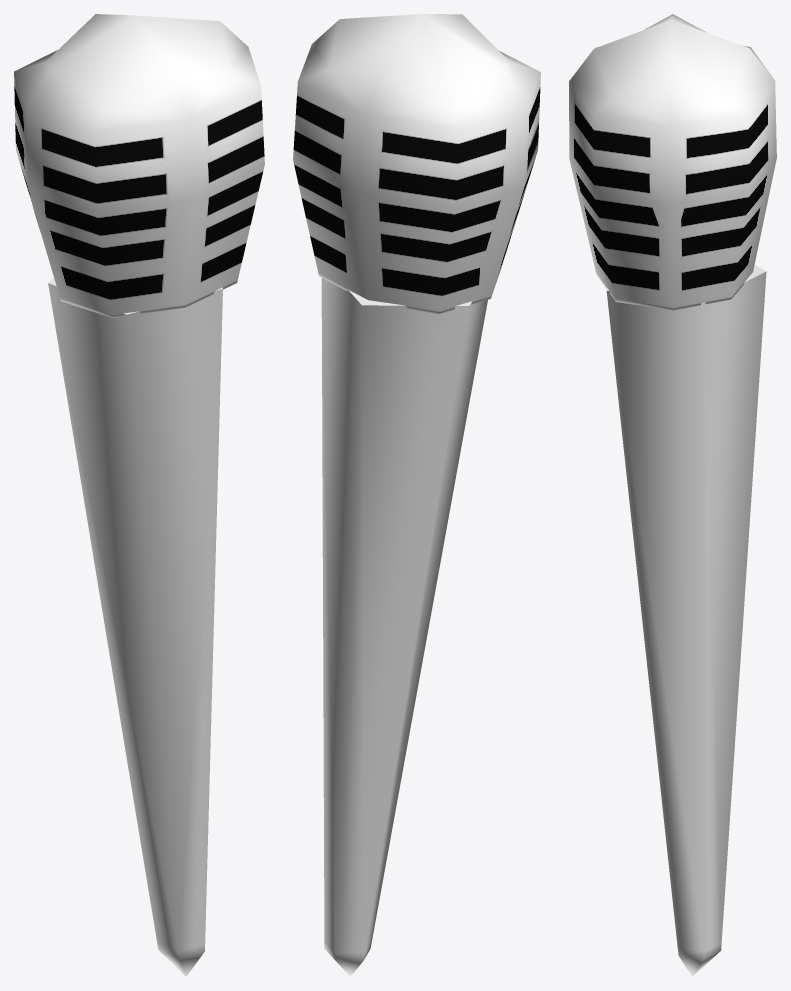
File: AF_M_Prop_06.FBX
3 renders of one model, left to right at view 1: azimuth 30°, elevation 25°; view 2: azimuth 150°, elevation 25°; view 3: azimuth 270°, elevation 25°, orthographic. The views are drawn at different scales.
Visible parts, largest first — view 1: AF_M_Prop_06; view 2: AF_M_Prop_06; view 3: AF_M_Prop_06.
Boxes of the visible parts, x1,y1,x2,y2 form: AF_M_Prop_06: (14,14,264,976); AF_M_Prop_06: (293,14,540,976); AF_M_Prop_06: (569,14,776,976).
Bounding box in the file's own units: 87.87 × 369 × 74.77.
1 material, 1 textured.
